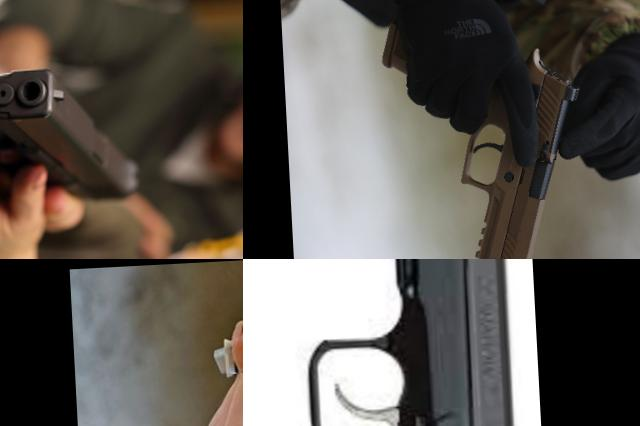handgun: (375, 6, 593, 259), (243, 259, 549, 426), (0, 57, 145, 220), (203, 259, 243, 383)
